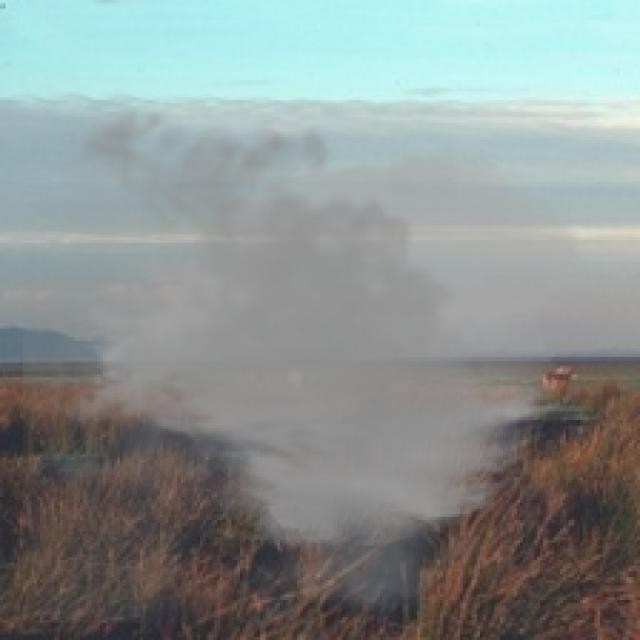Smoke: (22, 91, 592, 623)
